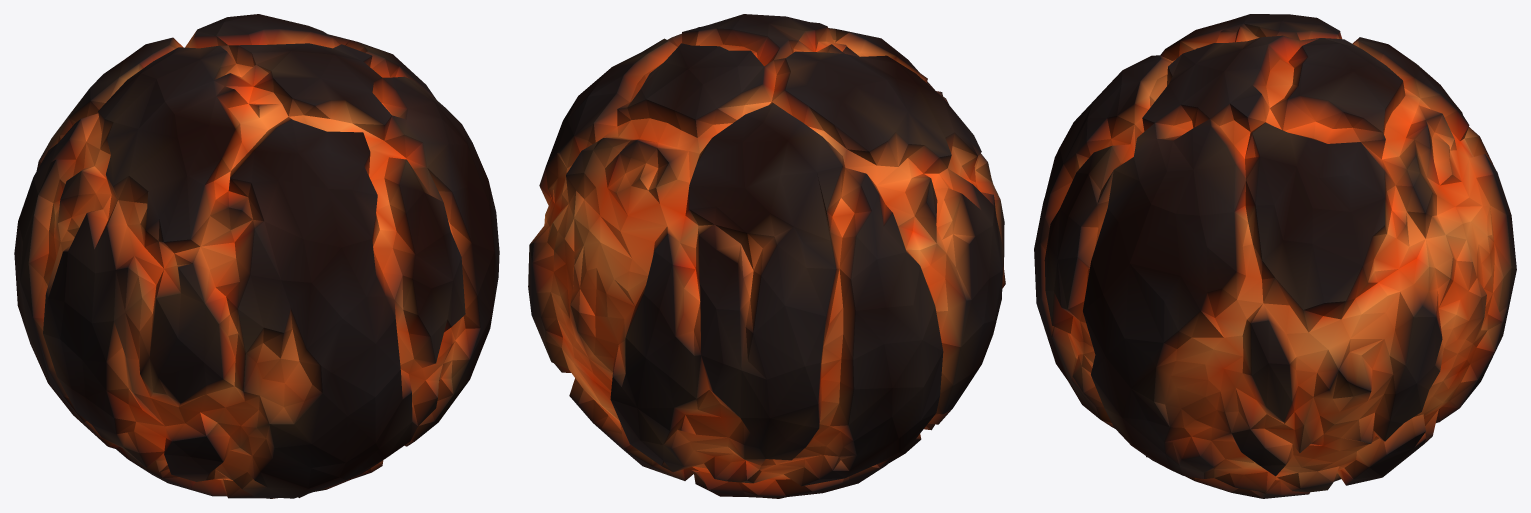
The model's file is barren_4.fbx.
3 renders of one model, left to right at view 1: azimuth 30°, elevation 25°; view 2: azimuth 150°, elevation 25°; view 3: azimuth 270°, elevation 25°, orthographic.
Visible parts, largest first — view 1: filecache1; view 2: filecache1; view 3: filecache1.
Boxes of the visible parts, x1=… form: filecache1: x1=14, y1=14, x2=499, y2=498; filecache1: x1=528, y1=14, x2=1005, y2=498; filecache1: x1=1034, y1=14, x2=1516, y2=498.
Bounding box in the file's own units: 2.17 × 2.17 × 2.18.
